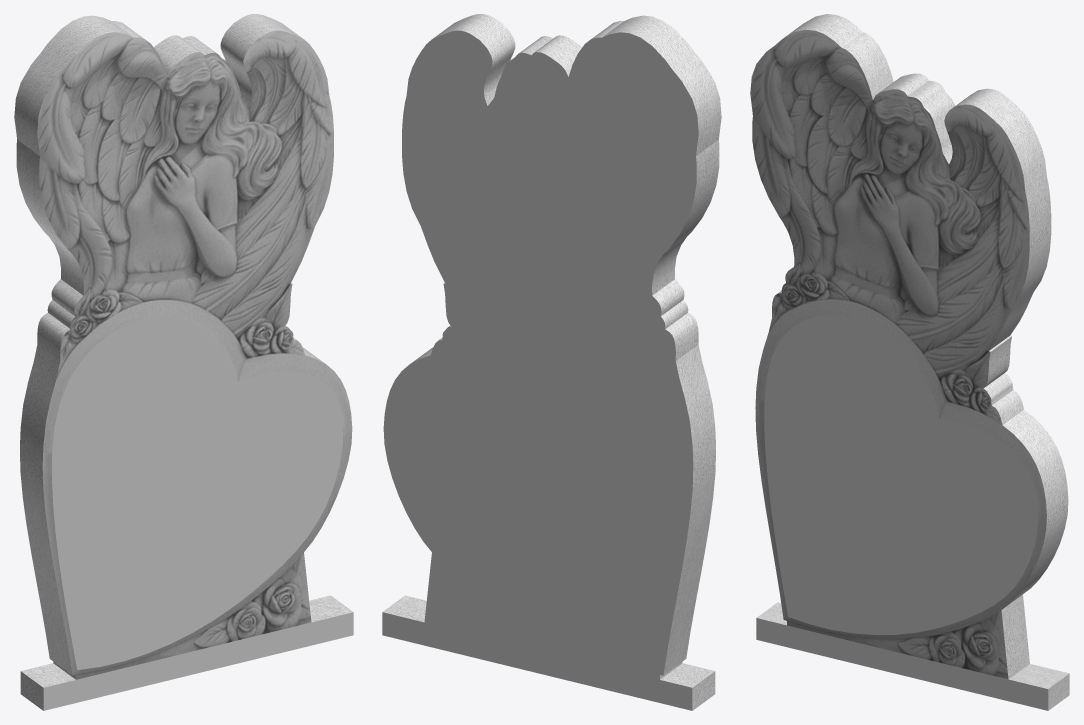
Rendered from cn980d5c32c8_tkf.glb.
The picture shows the model from 3 angles, left to right: view 1: azimuth 30°, elevation 25°; view 2: azimuth 150°, elevation 25°; view 3: azimuth 330°, elevation 25°; orthographic projection. The views are drawn at different scales.
Parts seen in each view (by area): view 1: Pam-d03-002_2_notexture, Pam-d03-002; view 2: Pam-d03-002, Pam-d03-002_2_notexture; view 3: Pam-d03-002_2_notexture, Pam-d03-002.
Boxes of the visible parts, x1=… form: Pam-d03-002_2_notexture: x1=14, y1=14, x2=353, y2=710; Pam-d03-002: x1=43, y1=316, x2=353, y2=710; Pam-d03-002: x1=382, y1=30, x2=698, y2=710; Pam-d03-002_2_notexture: x1=382, y1=14, x2=721, y2=710; Pam-d03-002_2_notexture: x1=750, y1=14, x2=1069, y2=710; Pam-d03-002: x1=756, y1=315, x2=1048, y2=710.
Size of the model in its own units: 0.4 by 0.8 by 0.05.
Materials: 1 (1 with a texture image).
